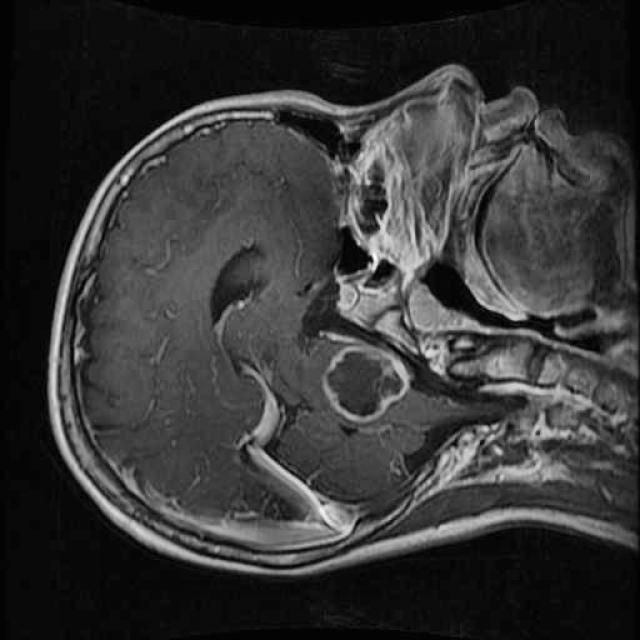Tumor: (316, 329, 420, 430)
